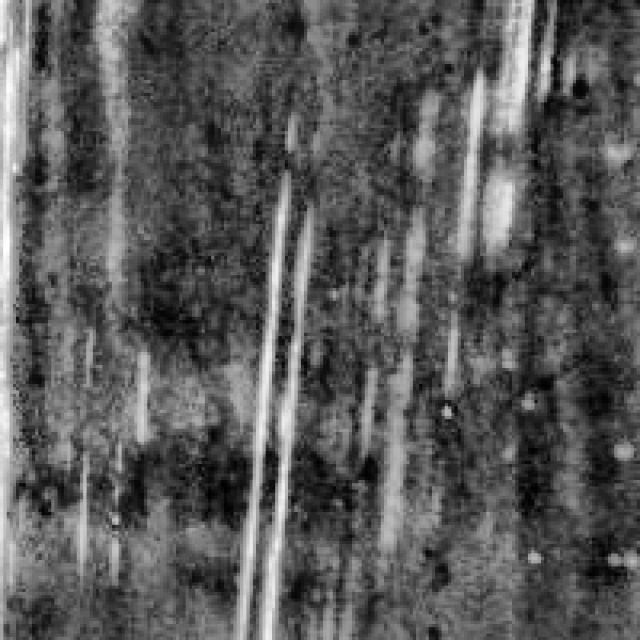Inclusion: (234, 102, 316, 637)
